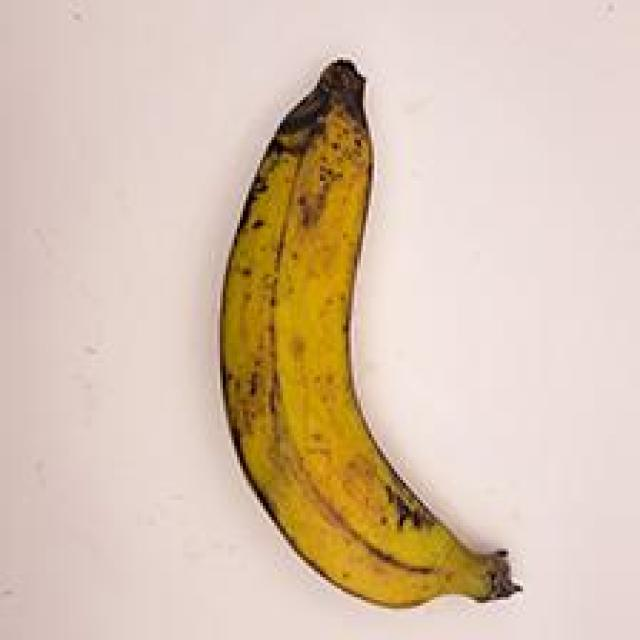Overripe: (194, 33, 538, 620)
